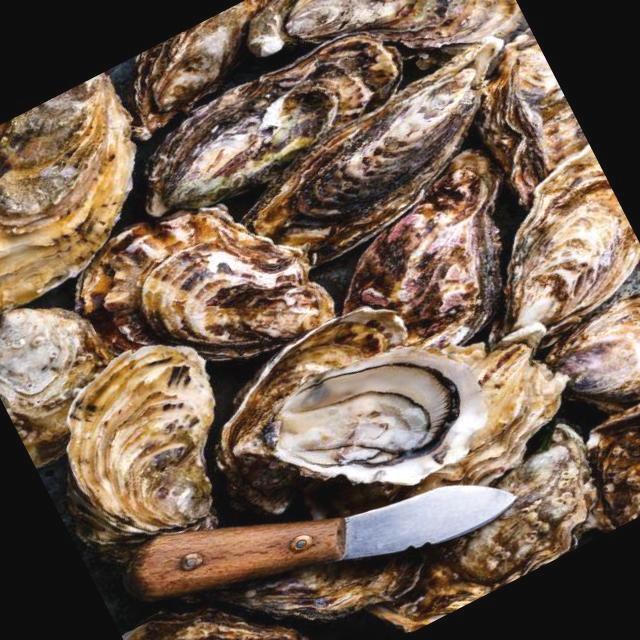Oyster-Closed: (245, 48, 490, 262), (146, 32, 404, 218), (365, 443, 589, 633), (78, 212, 334, 362), (0, 72, 136, 308), (343, 151, 501, 347), (222, 308, 406, 468), (66, 347, 216, 533), (504, 141, 640, 337), (482, 34, 588, 208), (134, 0, 270, 134), (0, 311, 110, 467), (538, 295, 640, 413), (286, 0, 520, 44)
Oyster-Open: (232, 344, 490, 488)
